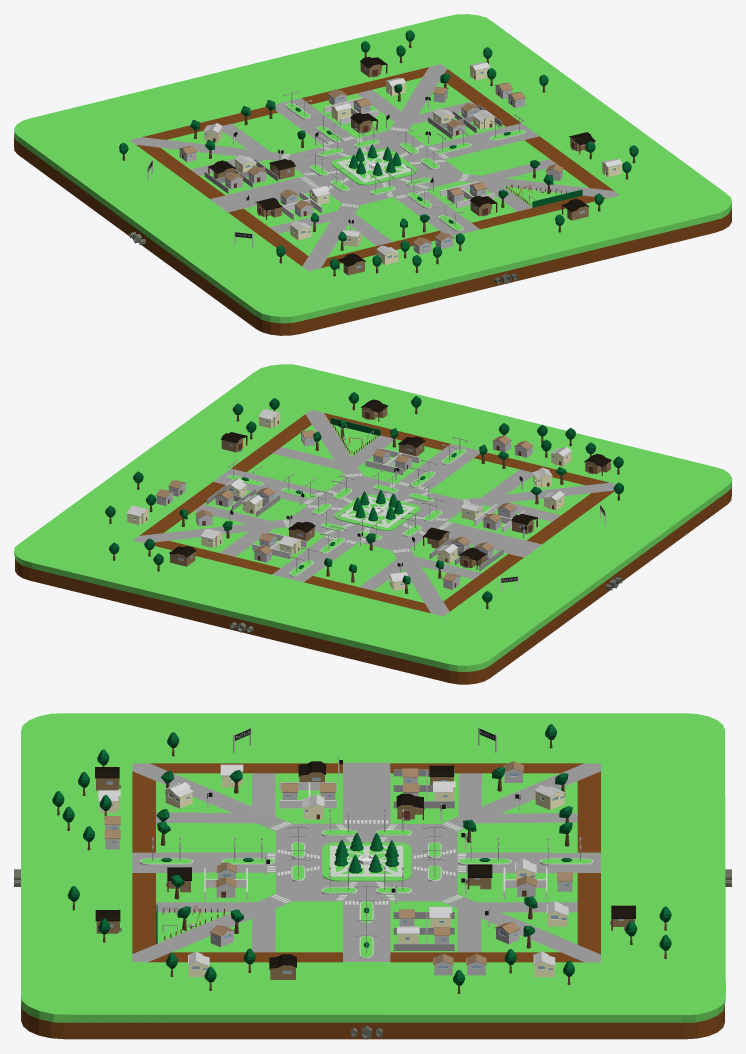
3 renders of one model, top to bottom at view 1: azimuth 30°, elevation 25°; view 2: azimuth 150°, elevation 25°; view 3: azimuth 270°, elevation 25°, orthographic. The views are drawn at different scales.
Parts seen in each view (by area): view 1: Plano.001, Centro_Avenidas, Plano, CalleTierra3, CalleTierra7, CalleTierra8, CalleTierra4, PlazaCentral, CalleTierra2, CalleTierra6, CalleTierra5, CalleTierra1; view 2: Plano.001, Centro_Avenidas, Plano, CalleTierra6, CalleTierra3, CalleTierra8, CalleTierra7, CalleTierra4, CalleTierra5, PlazaCentral, CalleTierra1, CalleTierra2; view 3: Plano.001, Centro_Avenidas, Plano, CalleTierra1, CalleTierra5, CalleTierra2, CalleTierra6, PlazaCentral, CalleTierra8, CalleTierra3, CalleTierra4, CalleTierra7 (+10 smaller).
Part boxes in pixels (box(x1,y1,x2,y2)): Plano.001: box(14, 14, 731, 323); Centro_Avenidas: box(130, 64, 619, 271); Plano: box(14, 134, 731, 335); CalleTierra3: box(524, 136, 613, 190); CalleTierra7: box(136, 145, 224, 198); CalleTierra8: box(228, 208, 308, 265); CalleTierra4: box(445, 69, 520, 126); PlazaCentral: box(331, 148, 416, 185); CalleTierra2: box(472, 195, 606, 229); CalleTierra6: box(142, 107, 277, 139); CalleTierra5: box(301, 67, 428, 104); CalleTierra1: box(321, 230, 440, 268); Plano.001: box(14, 364, 731, 671); Centro_Avenidas: box(133, 410, 615, 616); Plano: box(15, 485, 731, 684); CalleTierra6: box(304, 576, 430, 613); CalleTierra3: box(231, 414, 311, 472); CalleTierra8: box(527, 490, 614, 544); CalleTierra7: box(443, 554, 523, 611); CalleTierra4: box(139, 482, 225, 535); CalleTierra5: box(154, 540, 280, 574); PlazaCentral: box(334, 494, 420, 530); CalleTierra1: box(474, 452, 608, 485); CalleTierra2: box(324, 413, 450, 450); Plano.001: box(21, 713, 725, 1022); Centro_Avenidas: box(132, 763, 600, 962); Plano: box(21, 1004, 724, 1039); CalleTierra1: box(132, 771, 155, 852); CalleTierra5: box(577, 873, 600, 954); CalleTierra2: box(132, 873, 155, 953); CalleTierra6: box(577, 771, 600, 852); PlazaCentral: box(322, 842, 411, 881); CalleTierra8: box(150, 763, 342, 773); CalleTierra3: box(148, 952, 342, 962); CalleTierra4: box(390, 952, 583, 962); CalleTierra7: box(390, 763, 583, 773).
Bounding box in the file's own units: 80.03 × 5.86 × 78.93.
